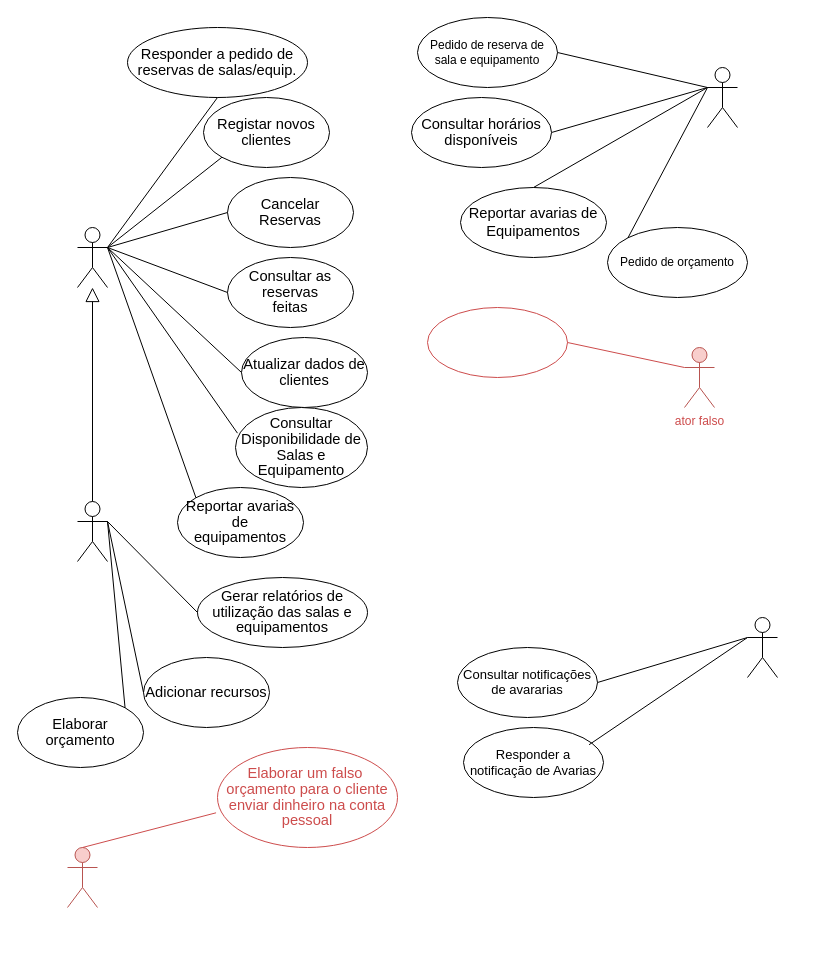
This 813x961 diagram has some shape labels left out. The shapes that lost their labels are listed below. From the top down, each one's centre as x and y in pixels, then its label:
pixel 722 97: Cliente
pixel 92 257: Rececionista
pixel 497 342: usar ID roubado para cancelar uma reserva já feita.
pixel 92 531: Gestor
pixel 762 647: Técnico de manutenção
pixel 82 877: Funcionário desonesto
